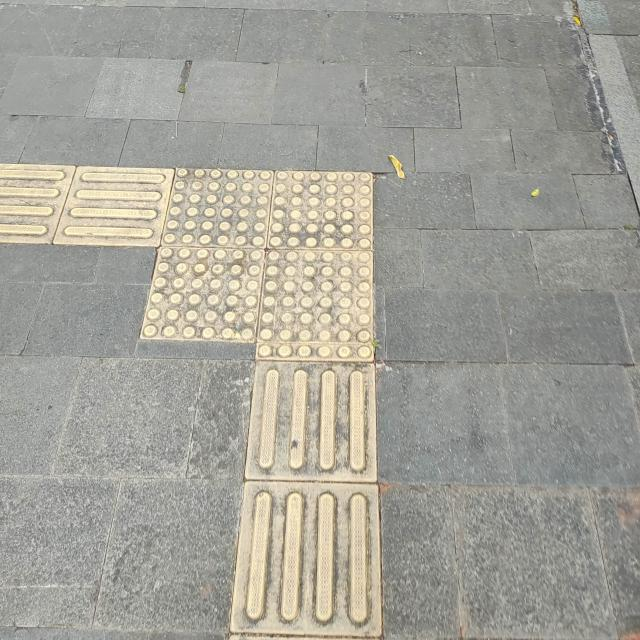kiri: (0, 89, 478, 471)
